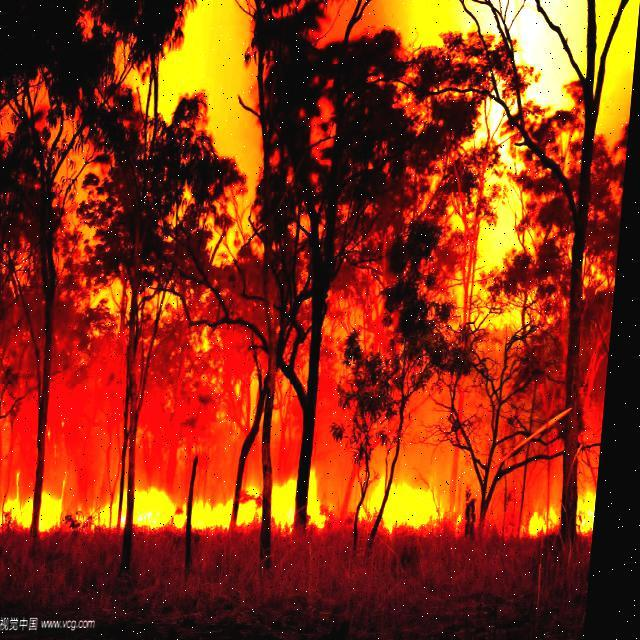Fire: (0, 481, 341, 526), (368, 478, 456, 536), (531, 493, 571, 538), (584, 495, 604, 539)
